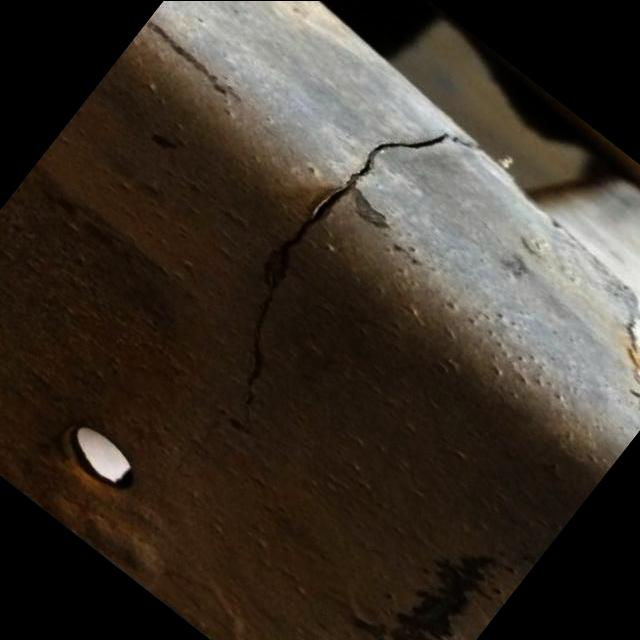defect: (242, 129, 482, 427), (623, 309, 640, 415)
